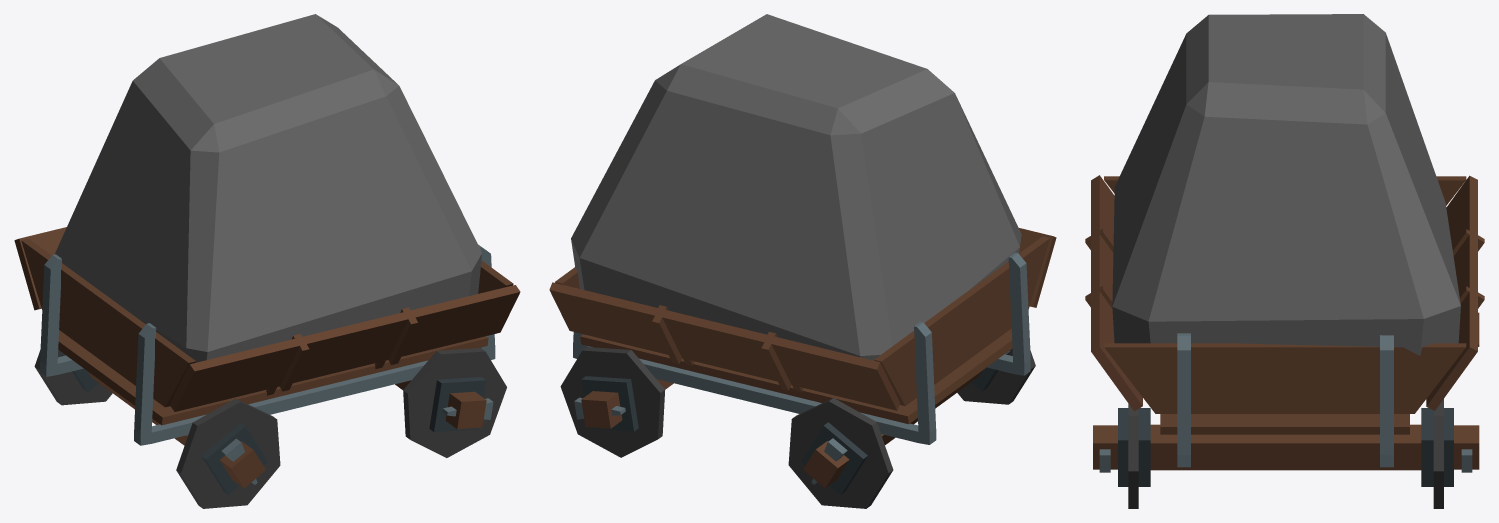
The model's file is cart_rock.fbx.
The picture shows the model from 3 angles, left to right: view 1: azimuth 30°, elevation 25°; view 2: azimuth 150°, elevation 25°; view 3: azimuth 270°, elevation 25°; orthographic projection. The views are drawn at different scales.
Parts seen in each view (by area): view 1: Plane.002; view 2: Plane.002; view 3: Plane.002.
Part boxes in pixels (<box>): Plane.002: <box>14,14,520,508</box>; Plane.002: <box>549,14,1056,508</box>; Plane.002: <box>1085,14,1484,508</box>.
Bounding box in the file's own units: 2.18 × 2.17 × 1.97.
